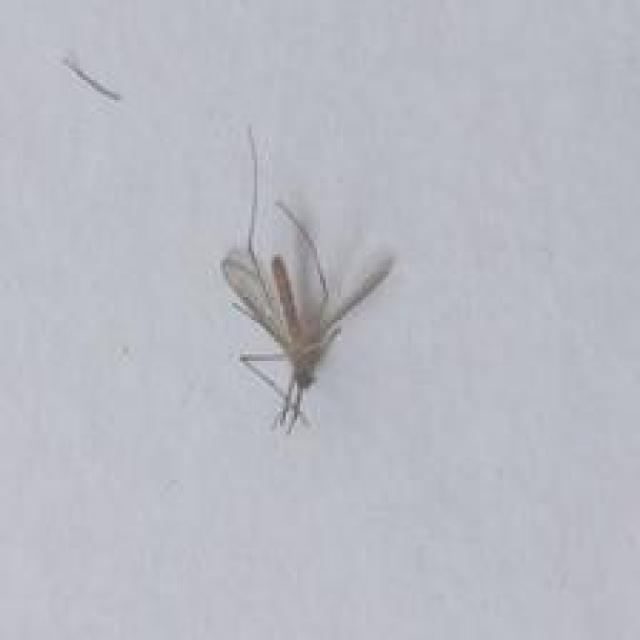Culex: (218, 124, 396, 433)
